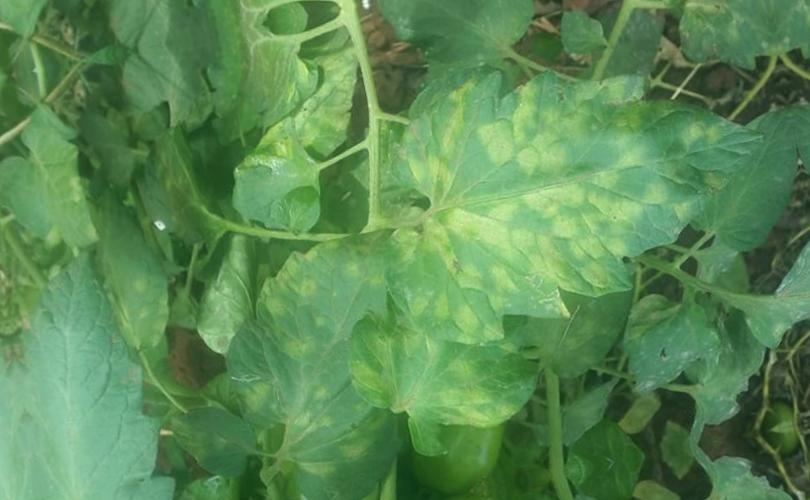Tomato mold leaf: (367, 19, 784, 359), (200, 227, 440, 500), (0, 242, 185, 500), (347, 267, 534, 458), (0, 113, 99, 259)
